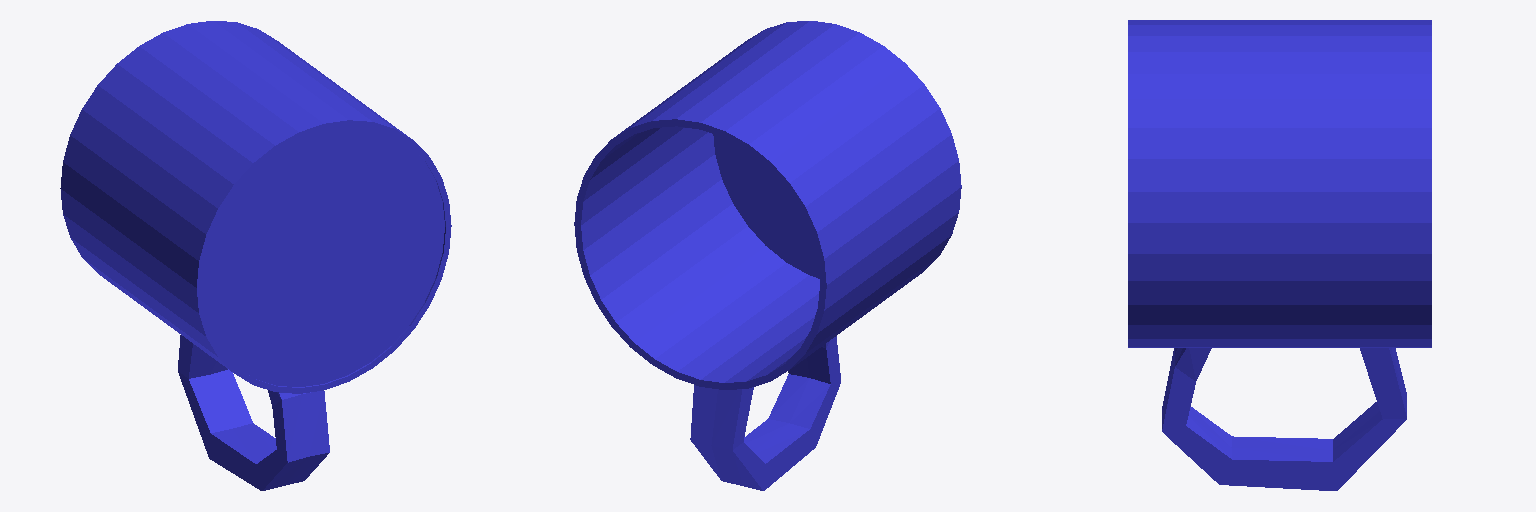
URDF robot description (mug_5):
<?xml version="1.0"?>
<robot name="mug_5">
  <link name="mug_base_link">
    <contact>
      <lateral_friction value="1.0"/>
      <spinning_friction value=".001"/>
    </contact>
    <inertial>
      <origin rpy="0 0 0" xyz="0 0 0"/>
      <mass value="0.2"/>
      <inertia ixx="1" ixy="0" ixz="0" iyy="1" iyz="0" izz="1"/>
    </inertial>
    <visual>
      <origin rpy="0 0 0" xyz="0.0 0.0 0.0"/>
      <geometry>
        <mesh filename="./m5.obj" scale="1 .75 1"/>
      </geometry>
      <material name="mug_mat">
        <color rgba="0.3 0.3 0.9 1"/>
      </material>
    </visual>
    <collision>
      <origin rpy="0 0 0" xyz="0.0 0.0 0.0"/>
      <geometry>
        <mesh filename="./m5_cd.obj" scale="1 .75 1"/>
      </geometry>
    </collision>
  </link>
</robot>

--- What the picture shows (computed from the rendered views, not written in the file) ---
3 views of the same robot in one strip: view 1: azimuth 30°, elevation 25°; view 2: azimuth 150°, elevation 25°; view 3: azimuth 270°, elevation 25° (orthographic).
Robot: mug_5 — 1 links, 0 joints (none); root link mug_base_link; default pose: all joints at 0.
Visible links, largest first — view 1: mug_base_link; view 2: mug_base_link; view 3: mug_base_link.
Link boxes in pixels (box(x1,y1,x2,y2)): mug_base_link: box(60, 21, 451, 490); mug_base_link: box(574, 21, 961, 490); mug_base_link: box(1128, 20, 1431, 490).
Bounding box of the posed robot: 2.87 × 2.66 × 4.29 m (x, y, z).
Meshes: 1 distinct files referenced, 1 mesh visuals loaded (1 OBJ).